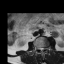CCS_stenosis: (41, 45, 42, 53)
LFS_normal: (44, 46, 46, 51)
LLS_normal: (43, 46, 44, 52)
RFS_normal: (38, 45, 40, 51)
RLS_normal: (39, 46, 41, 51)
